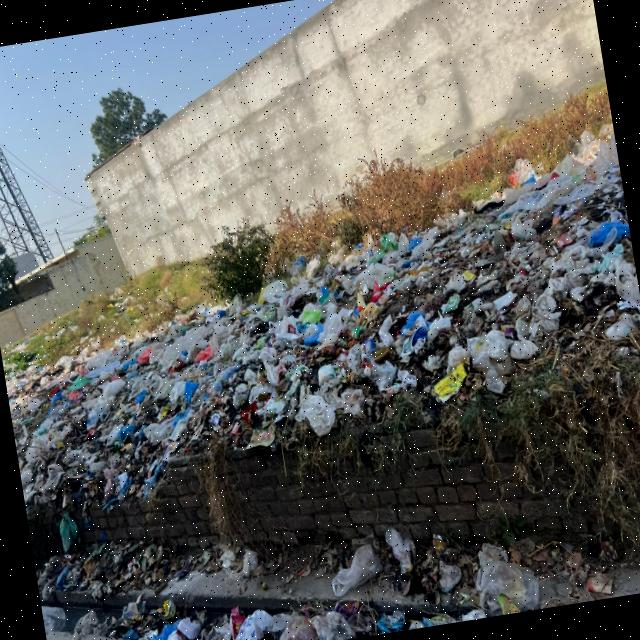garbage: (286, 159, 640, 443), (9, 269, 313, 516)
